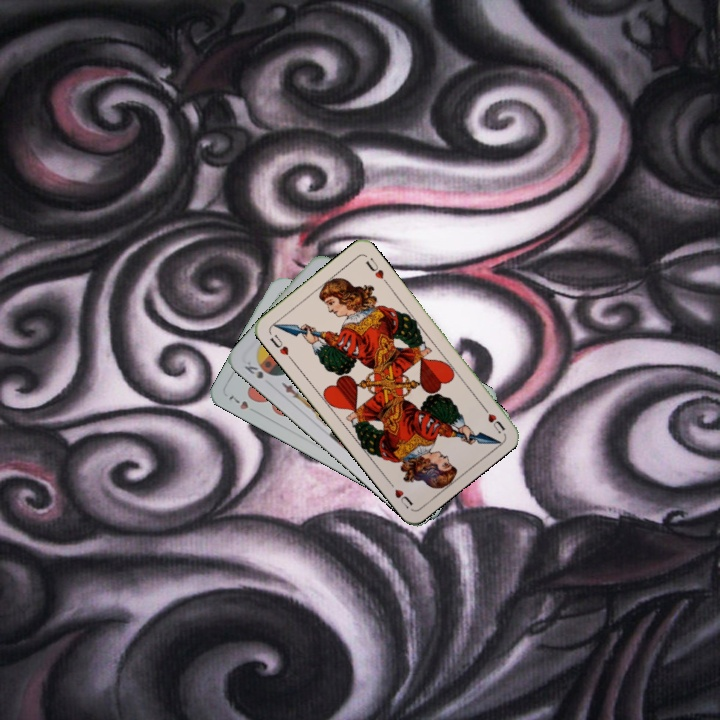H7: (224, 390, 261, 416)
HU: (477, 401, 508, 436), (266, 330, 295, 363)
SK: (240, 357, 266, 381)
